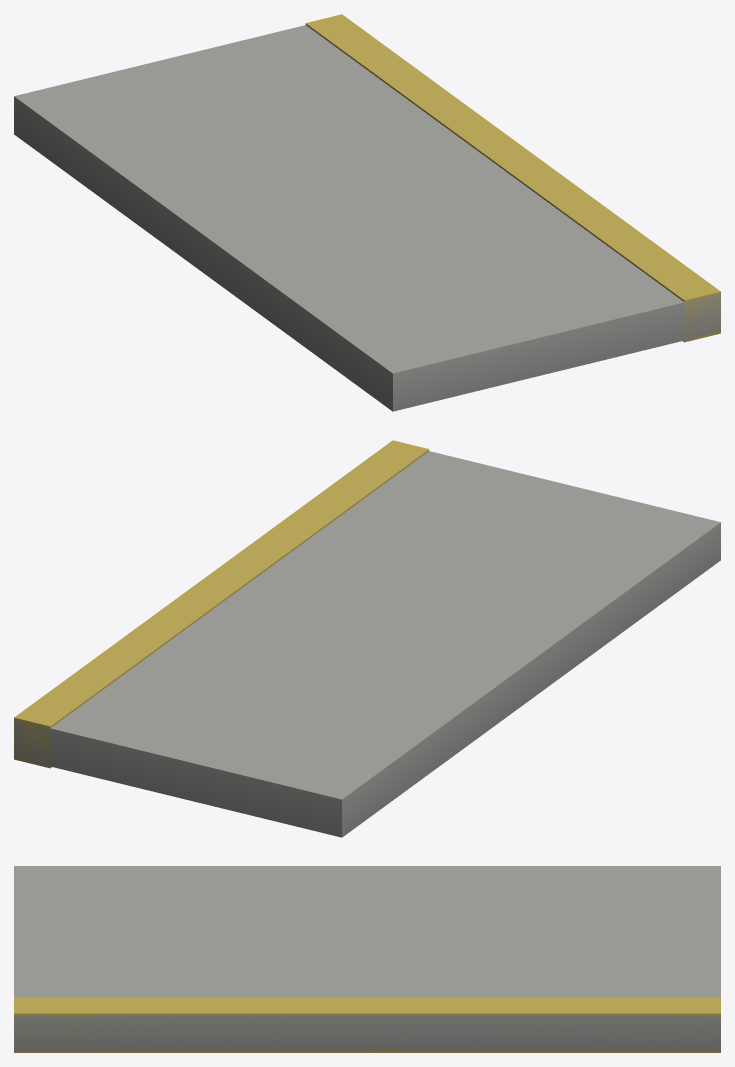
The model's file is m_uplink_b9d85c05.glb.
3 views of the same model, one above another, from view 1: azimuth 30°, elevation 25°; view 2: azimuth 150°, elevation 25°; view 3: azimuth 270°, elevation 25° (orthographic). The views are drawn at different scales.
Parts seen in each view (by area): view 1: mesh; view 2: mesh; view 3: mesh.
Boxes of the visible parts, x1,y1,x2,y2 form: mesh: (14,14,720,411); mesh: (14,440,720,837); mesh: (14,866,720,1052).
Bounding box in the file's own units: 18 × 2.2 × 36.
